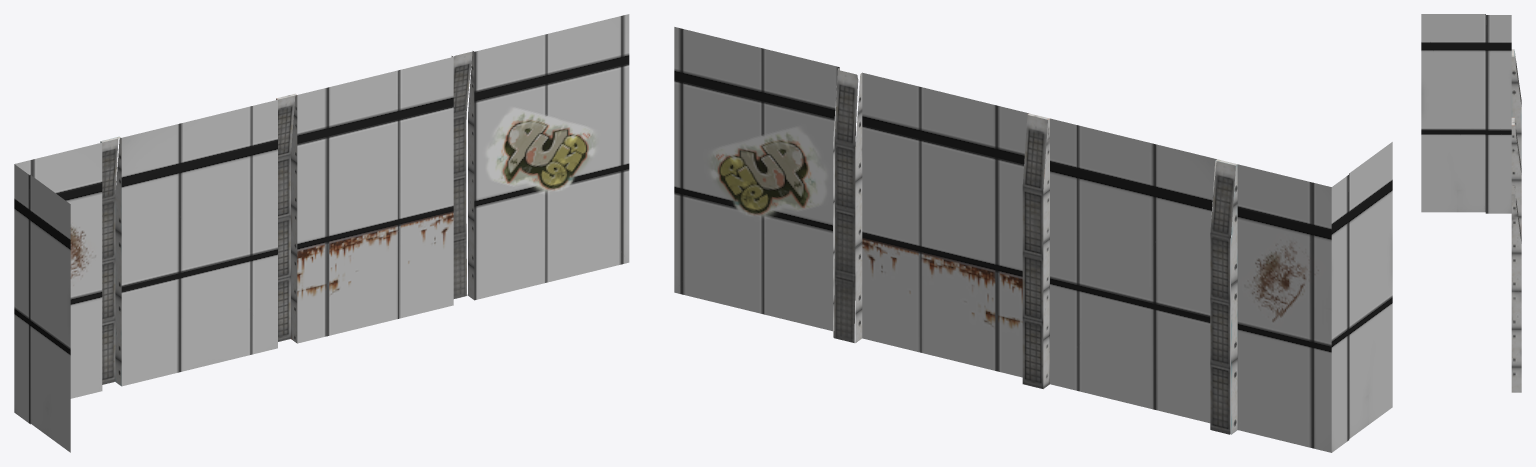
File: mid12.obj
3 views of the same model, side by side, from view 1: azimuth 30°, elevation 25°; view 2: azimuth 150°, elevation 25°; view 3: azimuth 270°, elevation 25° (orthographic). The views are drawn at different scales.
Parts seen in each view (by area): view 1: mid12; view 2: mid12; view 3: mid12.
Boxes of the visible parts, left/top/right/bottom form: mid12: left=14, top=14, right=629, bottom=452; mid12: left=674, top=27, right=1392, bottom=452; mid12: left=1421, top=14, right=1521, bottom=392.
Size of the model in its own units: 43.38 by 16.84 by 7.7.
